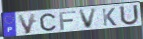C: (39, 13, 58, 32)
F: (58, 10, 78, 31)
K: (101, 7, 118, 27)
U: (119, 4, 141, 26)
V: (78, 7, 99, 30), (16, 13, 37, 35)
